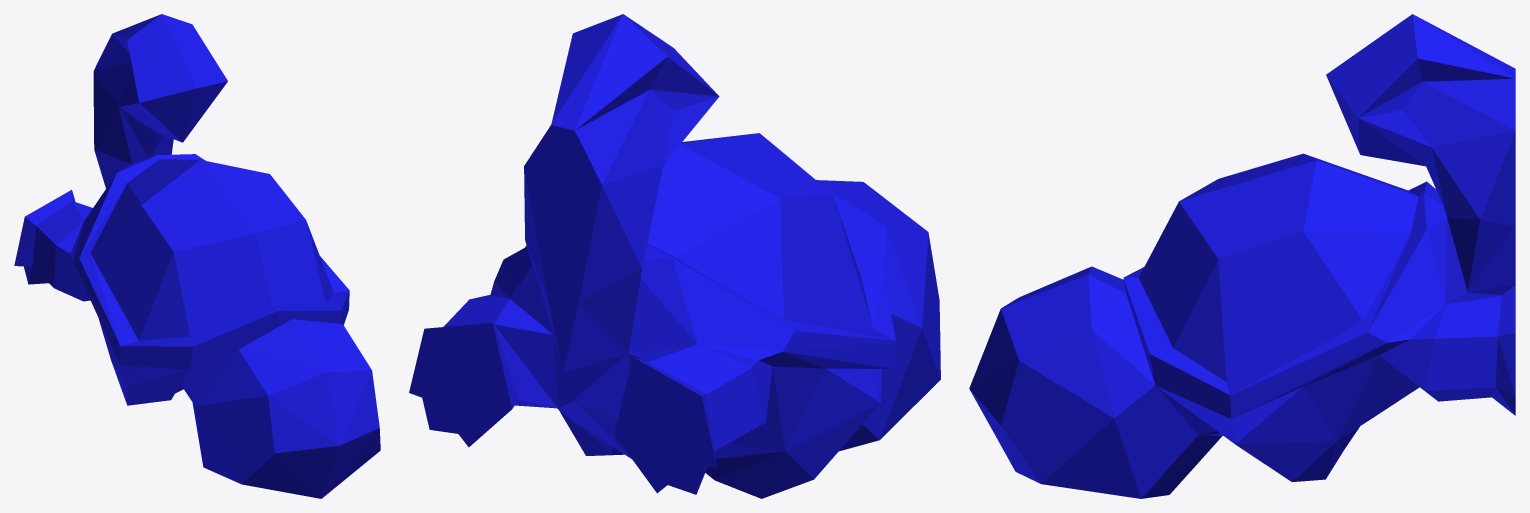
File: squir.obj
3 views of the same model, side by side, from view 1: azimuth 30°, elevation 25°; view 2: azimuth 150°, elevation 25°; view 3: azimuth 270°, elevation 25° (orthographic). The views are drawn at different scales.
Bounding box in the file's own units: 29.77 × 48.02 × 49.45.
